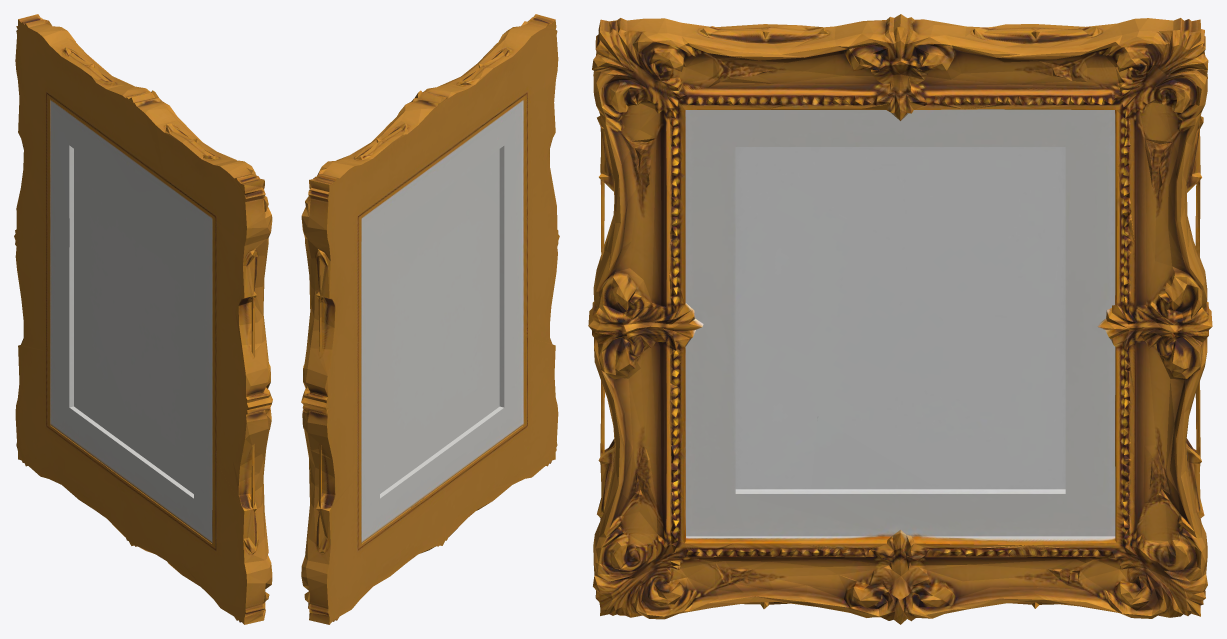
File: Cuadro.fbx
3 renders of one model, left to right at view 1: azimuth 30°, elevation 25°; view 2: azimuth 150°, elevation 25°; view 3: azimuth 270°, elevation 25°, orthographic. The views are drawn at different scales.
Parts seen in each view (by area): view 1: tripo_node_47078240; view 2: tripo_node_47078240; view 3: tripo_node_47078240.
Part boxes in pixels (x1,y1,x2,y2): tripo_node_47078240: [14, 14, 272, 624]; tripo_node_47078240: [301, 14, 559, 624]; tripo_node_47078240: [588, 14, 1212, 624].
Size of the model in its own units: 0.0795 by 0.9999 by 0.9476.
1 material, 1 textured.
